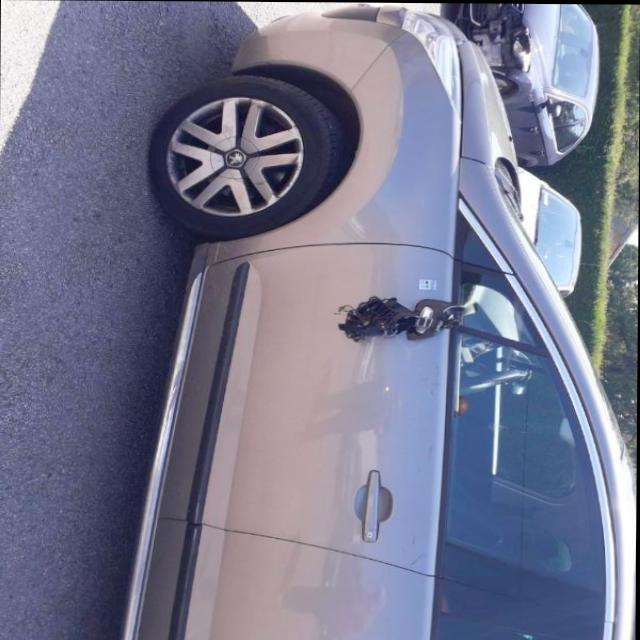porte-avant: (147, 235, 620, 618)
